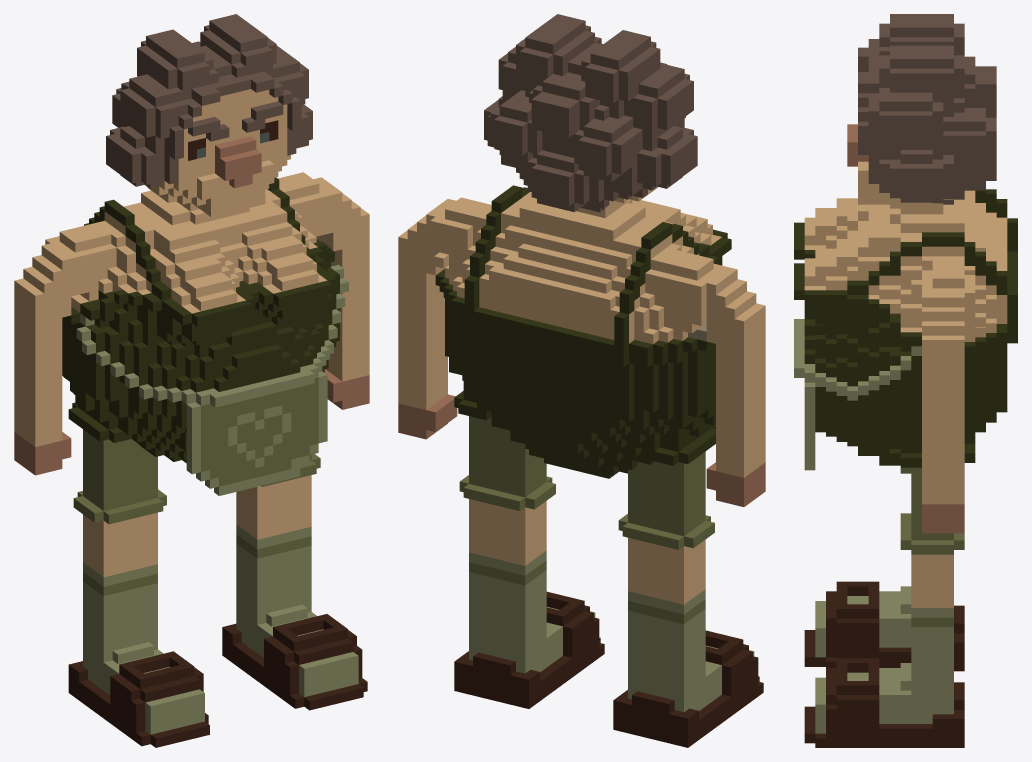
Rendered from aubergiste_02.obj.
3 renders of one model, left to right at view 1: azimuth 30°, elevation 25°; view 2: azimuth 150°, elevation 25°; view 3: azimuth 270°, elevation 25°, orthographic. The views are drawn at different scales.
Bounding box in the file's own units: 37 × 68 × 21.
1 material, 1 textured.
